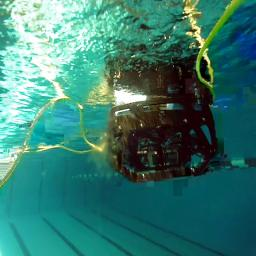Side: (104, 104, 217, 178)
